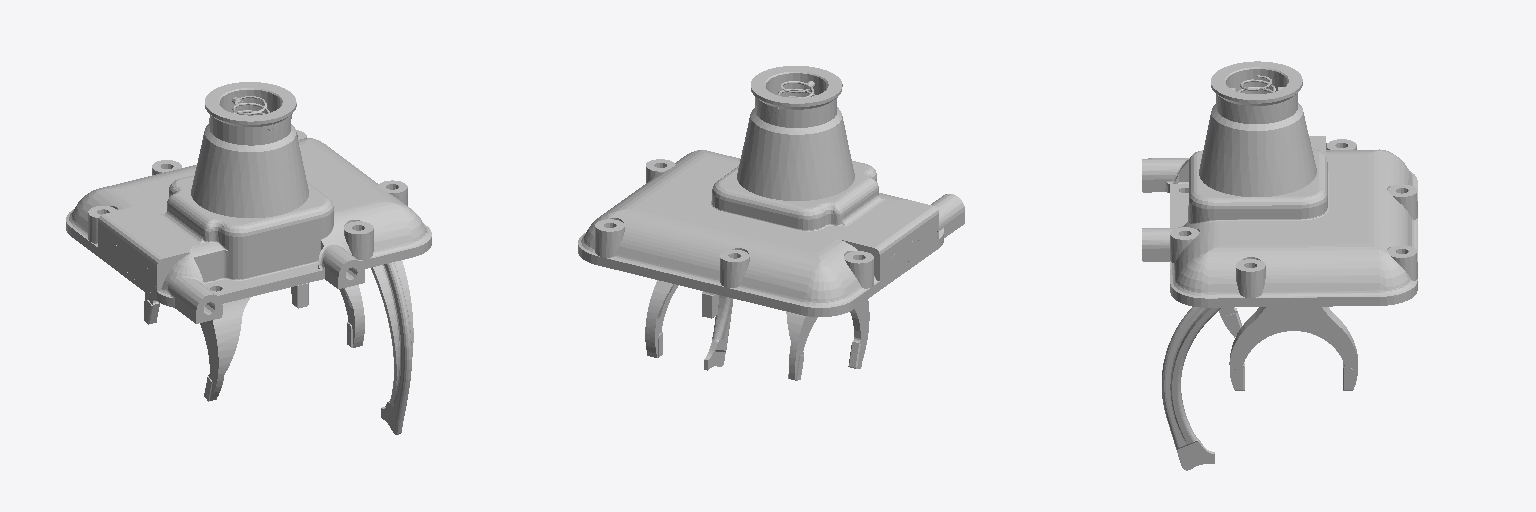
File: 76. Крышка верхняя в сборе.obj
3 renders of one model, left to right at view 1: azimuth 30°, elevation 25°; view 2: azimuth 150°, elevation 25°; view 3: azimuth 270°, elevation 25°, orthographic.
Parts seen in each view (by area): view 1: Твердое тело1, Твердое тело1:11, Твердое тело1:10, Твердое тело1:1; view 2: Твердое тело1, Твердое тело1:10, Твердое тело1:1, Твердое тело1:11; view 3: Твердое тело1, Твердое тело1:1, Твердое тело1:11.
Boxes of the visible parts, x1=… form: Твердое тело1: x1=66, y1=82, x2=431, y2=323; Твердое тело1:11: x1=371, y1=260, x2=413, y2=434; Твердое тело1:10: x1=144, y1=293, x2=250, y2=401; Твердое тело1:1: x1=291, y1=283, x2=364, y2=347; Твердое тело1: x1=578, y1=66, x2=964, y2=316; Твердое тело1:10: x1=786, y1=299, x2=869, y2=380; Твердое тело1:1: x1=645, y1=280, x2=718, y2=357; Твердое тело1:11: x1=704, y1=295, x2=732, y2=370; Твердое тело1: x1=1142, y1=61, x2=1417, y2=307; Твердое тело1:1: x1=1229, y1=307, x2=1357, y2=390; Твердое тело1:11: x1=1162, y1=306, x2=1220, y2=470.
Size of the model in its own units: 247 by 292 by 218.